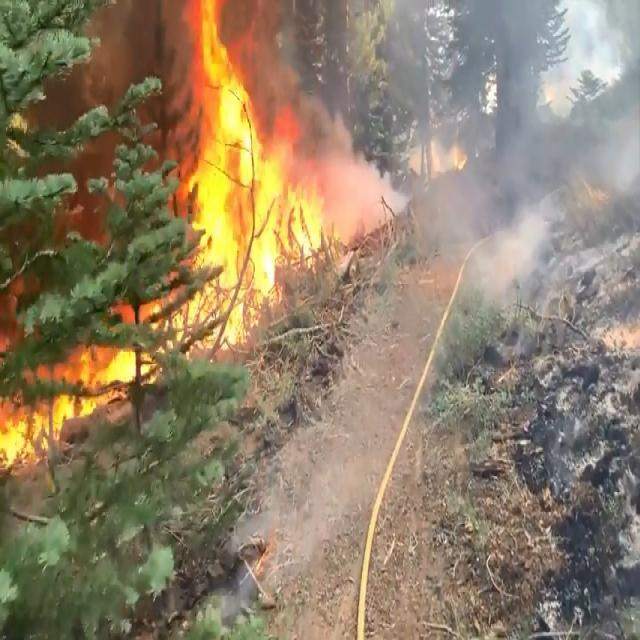Fire: (0, 0, 326, 473)
